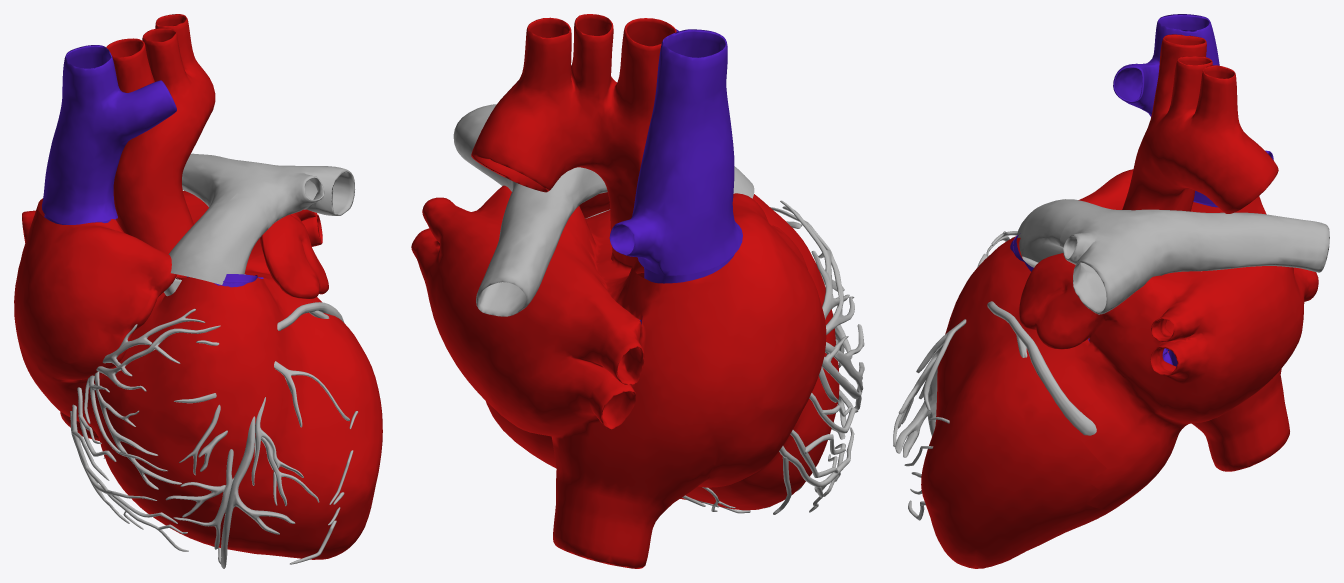
File: heart.fbx
3 views of the same model, side by side, from view 1: azimuth 30°, elevation 25°; view 2: azimuth 150°, elevation 25°; view 3: azimuth 270°, elevation 25° (orthographic). The views are drawn at different scales.
Visible parts, largest first — view 1: sub03, sub01, sub02; view 2: sub03, sub02, sub01; view 3: sub03, sub01, sub02.
Part boxes in pixels (left/top/right/bottom): sub03: left=14, top=14, right=382, bottom=559; sub01: left=70, top=153, right=358, bottom=568; sub02: left=42, top=45, right=263, bottom=287; sub03: left=411, top=14, right=839, bottom=568; sub02: left=609, top=29, right=742, bottom=324; sub01: left=453, top=104, right=864, bottom=514; sub03: left=921, top=34, right=1318, bottom=568; sub01: left=893, top=199, right=1329, bottom=520; sub02: left=1010, top=14, right=1273, bottom=366.
Size of the model in its own units: 82.61 by 122 by 100.
